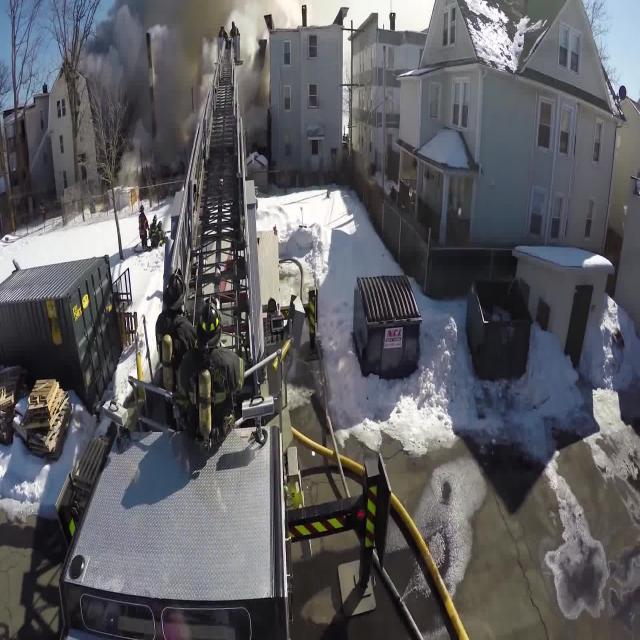Smoke: (92, 0, 298, 168)
